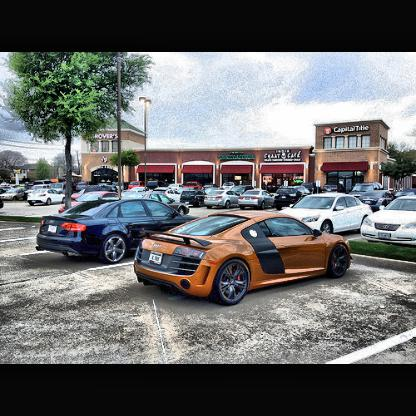Audi R8 Coupe 2012: (135, 212, 354, 308)
